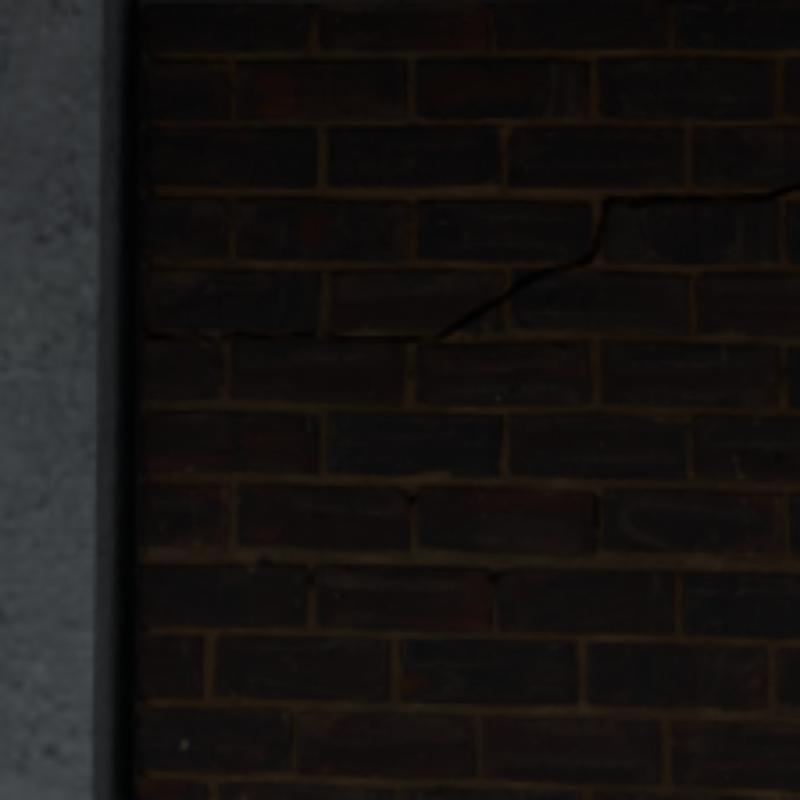pothole: (150, 243, 596, 339), (602, 182, 796, 221)
